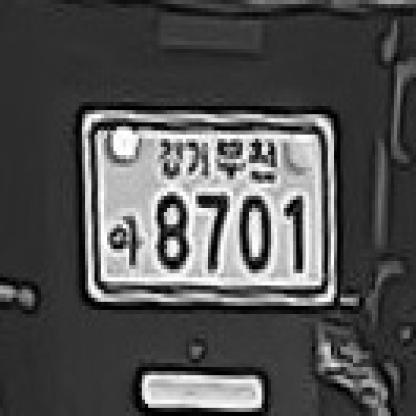bnum: (75, 102, 347, 315)
